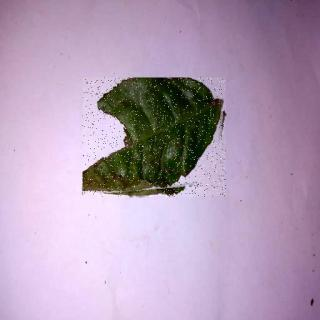Bird Eye Spot: (84, 79, 227, 199)
